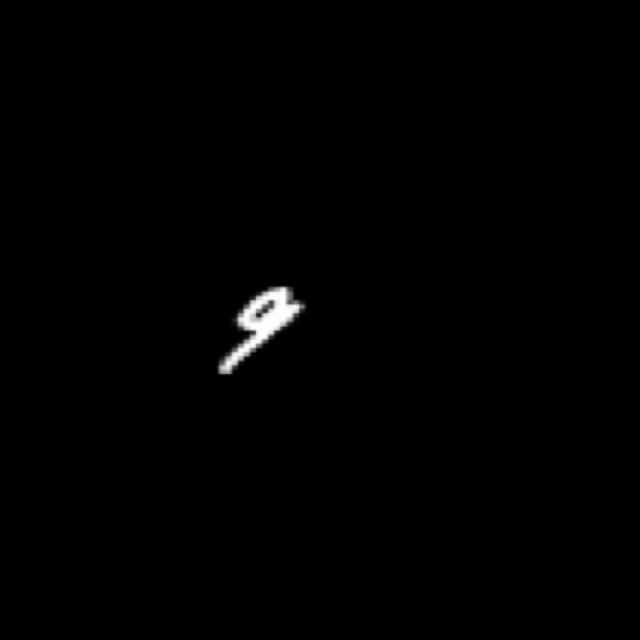nine -9-: (205, 282, 312, 378)
